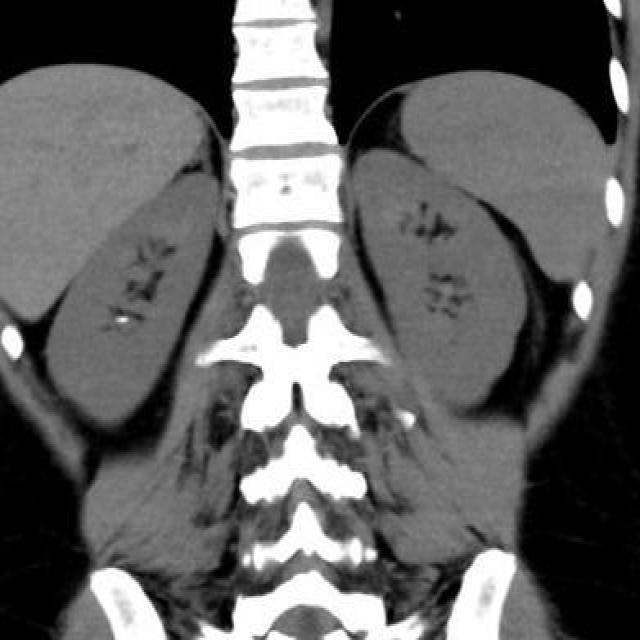Tas_Var: (115, 311, 131, 327)
